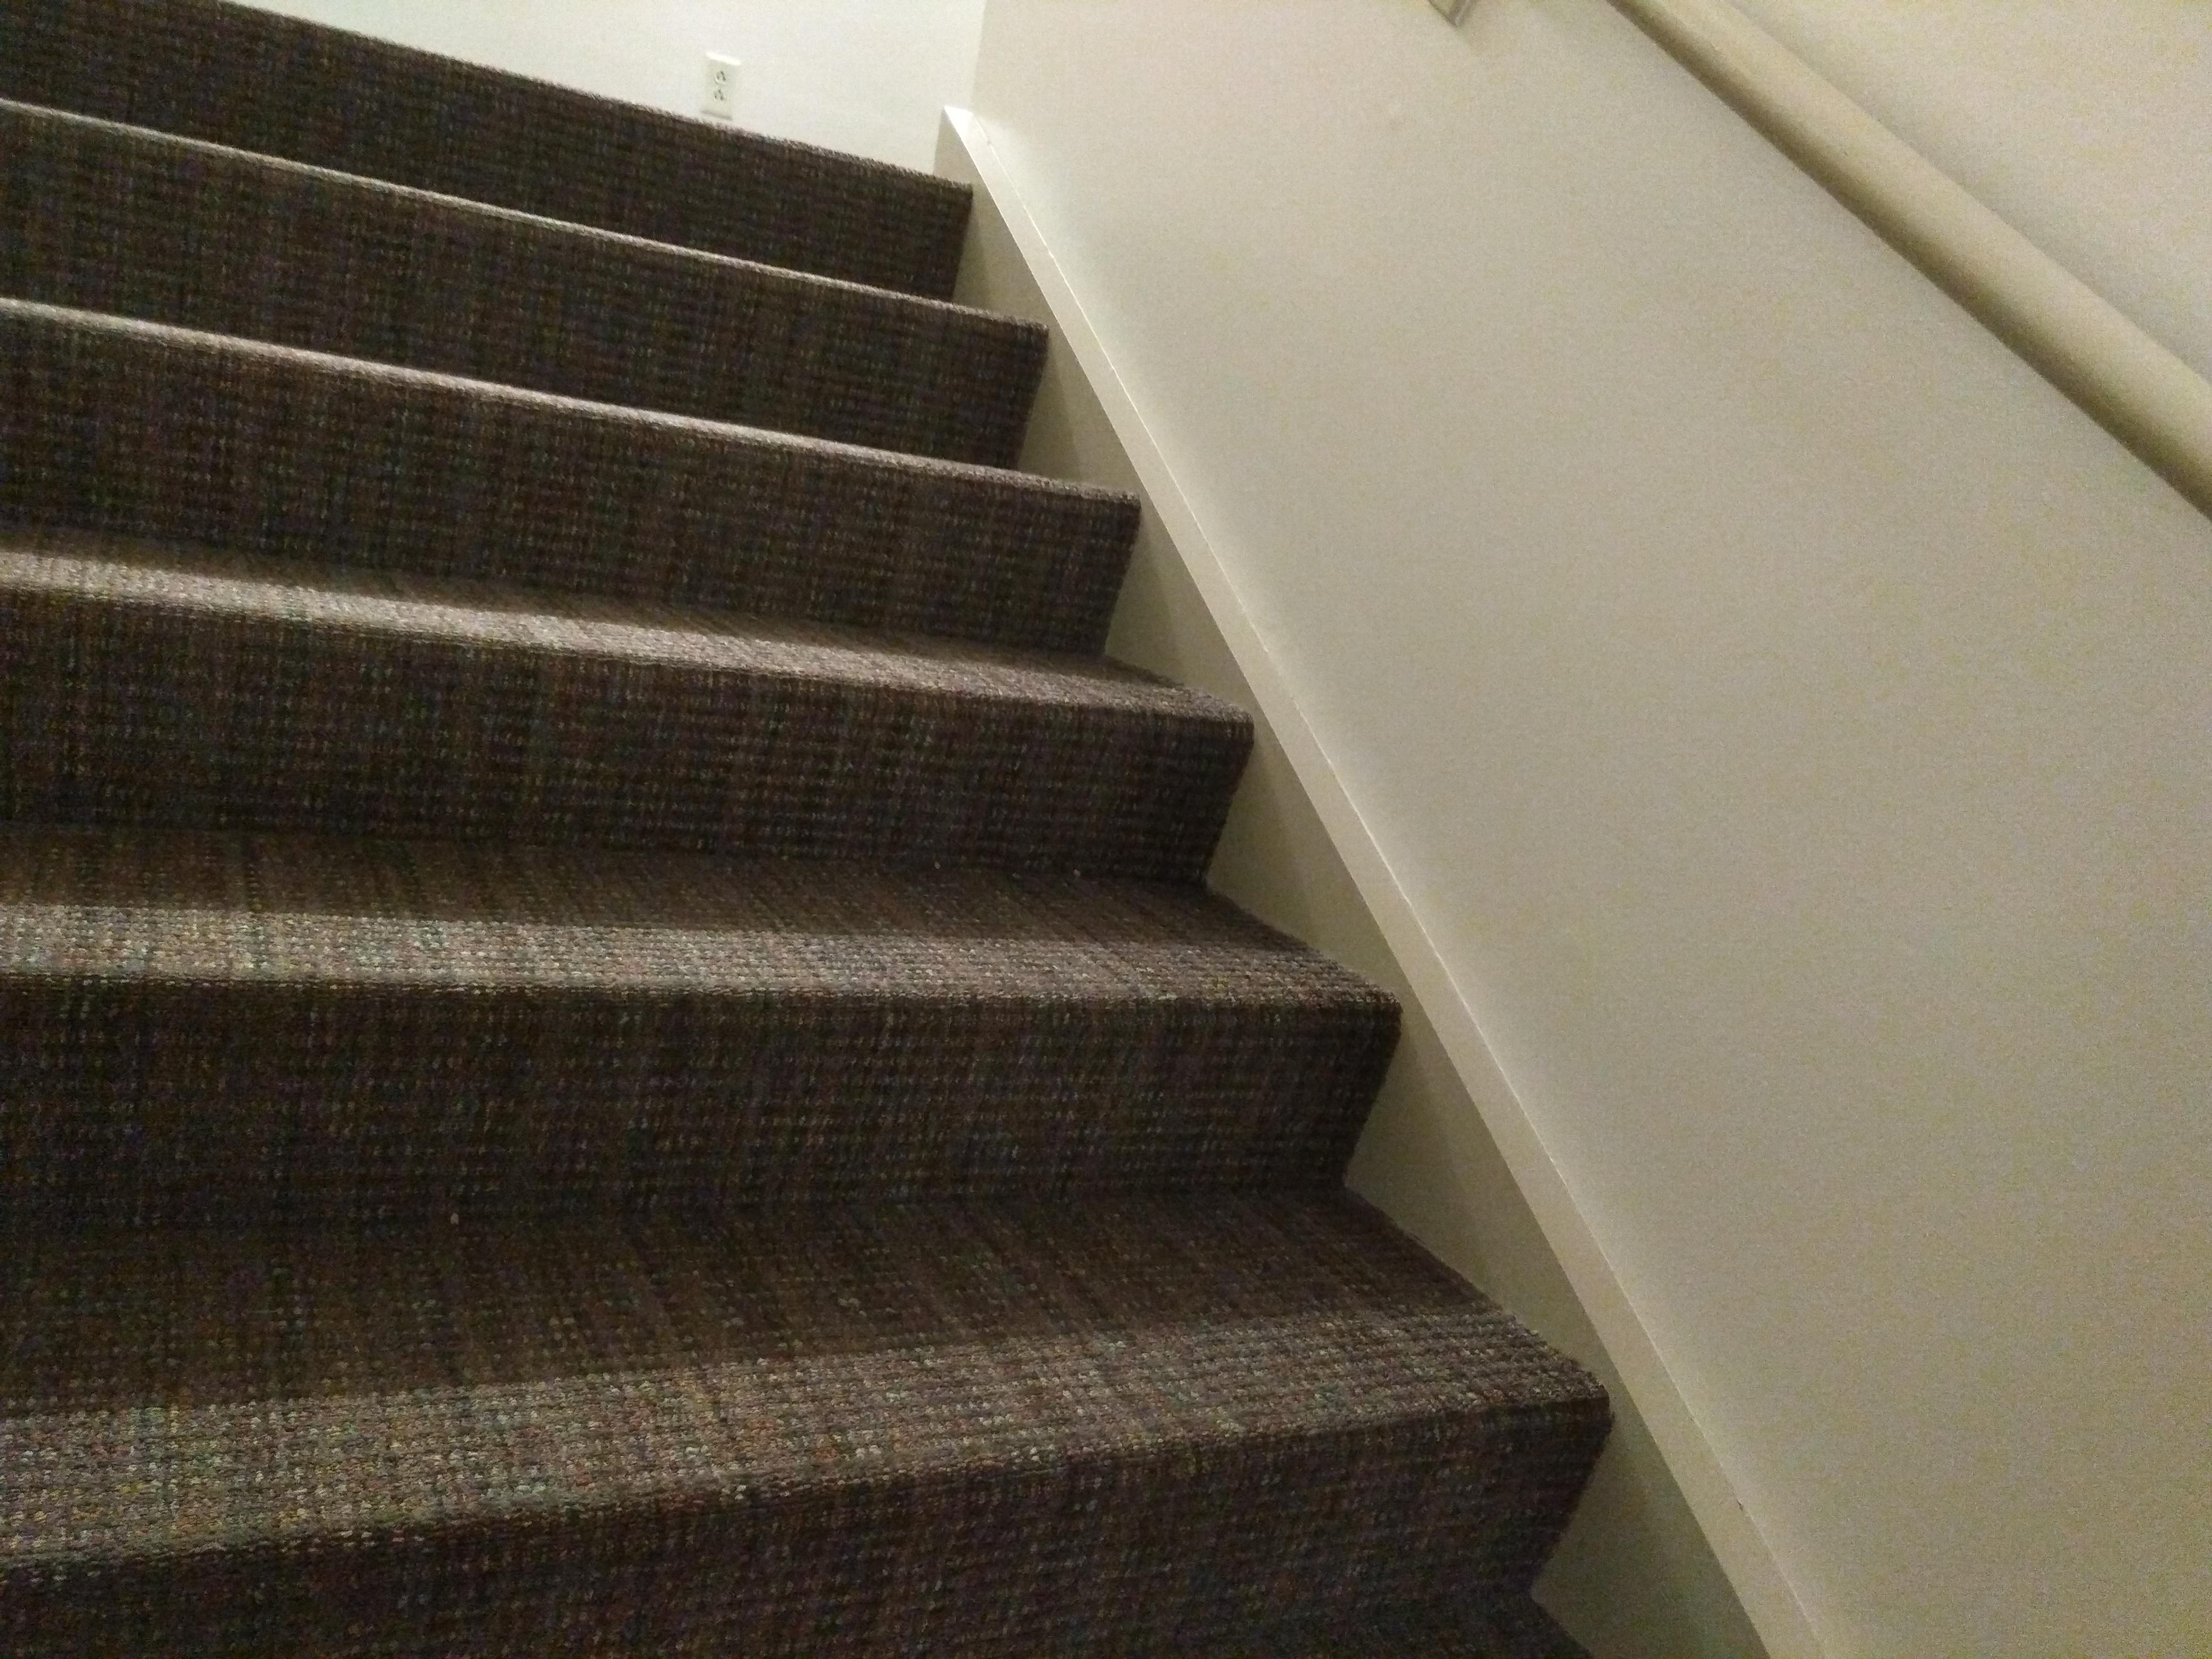stairs_up: (3, 3, 1642, 1601)
